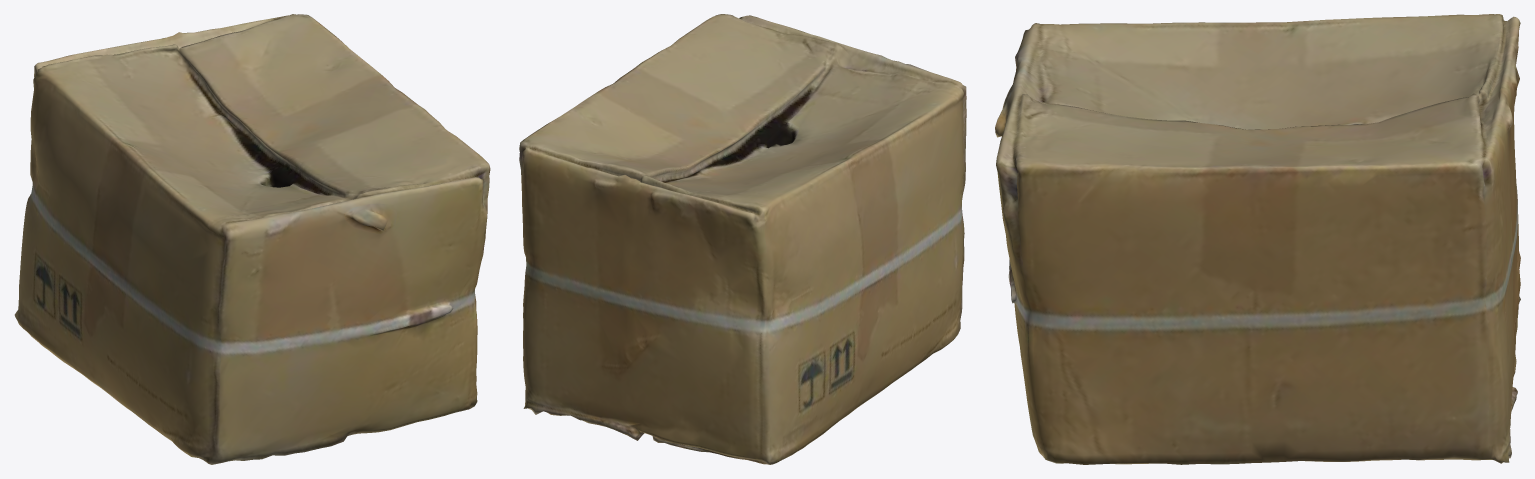
The model's file is cardboard_box_01.glb.
3 renders of one model, left to right at view 1: azimuth 30°, elevation 25°; view 2: azimuth 150°, elevation 25°; view 3: azimuth 270°, elevation 25°, orthographic. The views are drawn at different scales.
Parts seen in each view (by area): view 1: cardboard_box_01; view 2: cardboard_box_01; view 3: cardboard_box_01.
Part boxes in pixels (left/top/right/bottom): cardboard_box_01: left=14, top=14, right=490, bottom=464; cardboard_box_01: left=519, top=14, right=966, bottom=464; cardboard_box_01: left=995, top=14, right=1520, bottom=464.
Size of the model in its own units: 0.387 by 0.3418 by 0.5159.
1 material, 1 textured.
